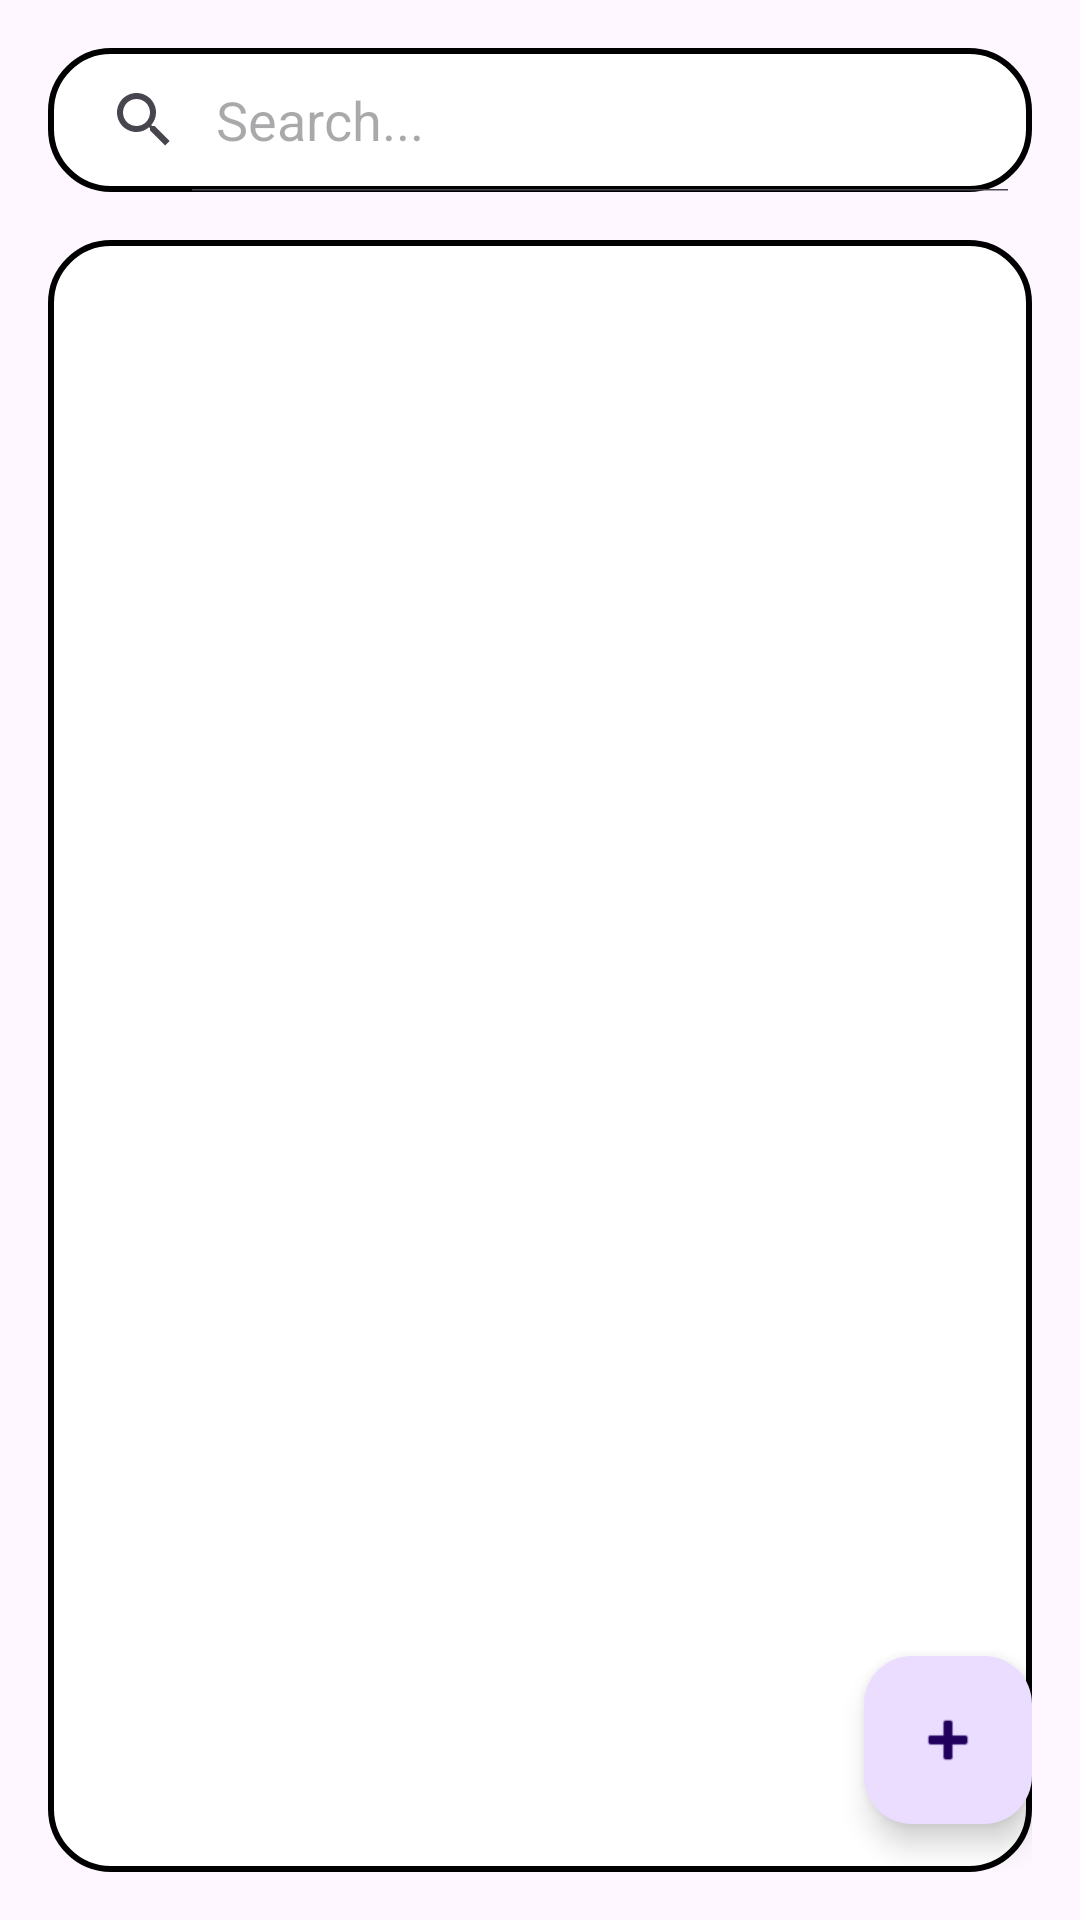

Icons on this 1080x1920 Android screen, each with the point to tap as (x=x, y=y):
add: (x=948, y=1740)
